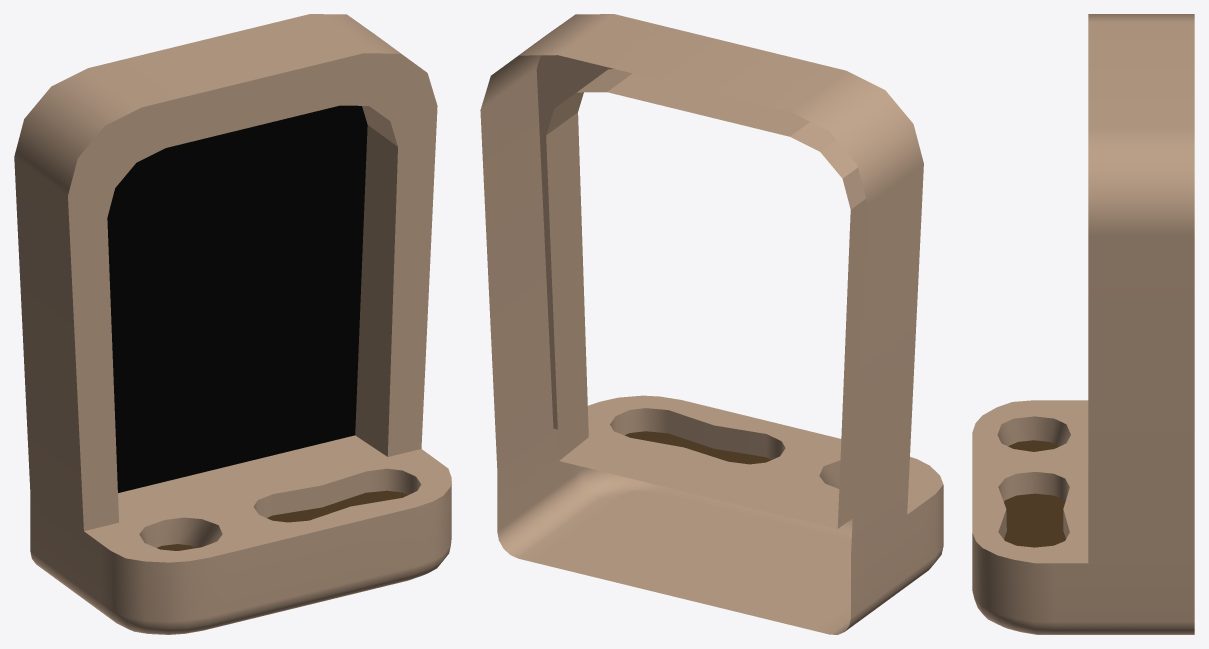
Rendered from window_03_closed.fbx.
3 renders of one model, left to right at view 1: azimuth 30°, elevation 25°; view 2: azimuth 150°, elevation 25°; view 3: azimuth 270°, elevation 25°, orthographic. The views are drawn at different scales.
Parts seen in each view (by area): view 1: window_03_closed; view 2: window_03_closed; view 3: window_03_closed.
Boxes of the visible parts, x1,y1,x2,y2 form: window_03_closed: (14,14,451,634); window_03_closed: (480,14,943,634); window_03_closed: (972,14,1194,634).
Bounding box in the file's own units: 145 × 183 × 76.02.
